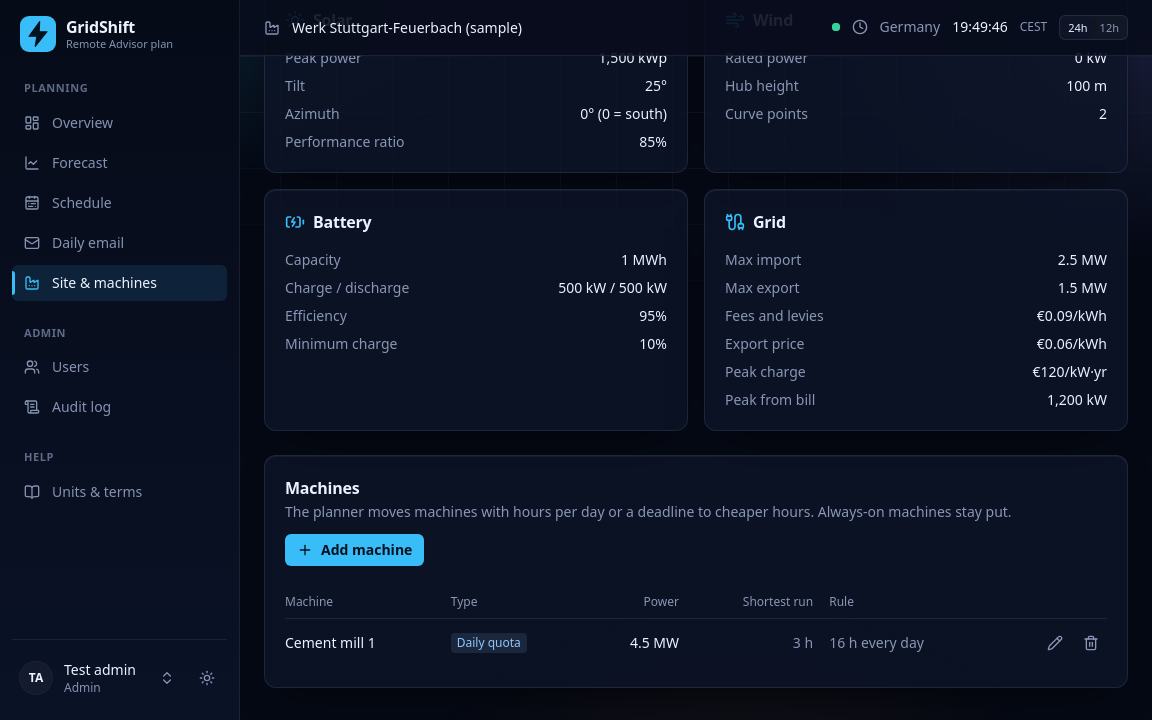
Test: App › refuses a shortest run longer than the daily hours before saving
The width and height of the screenshot is (1152, 720).
(page scrolled)
Click the button named "Edit Cement mill 1".
click(1055, 642)  # box [1039,626,1071,658]
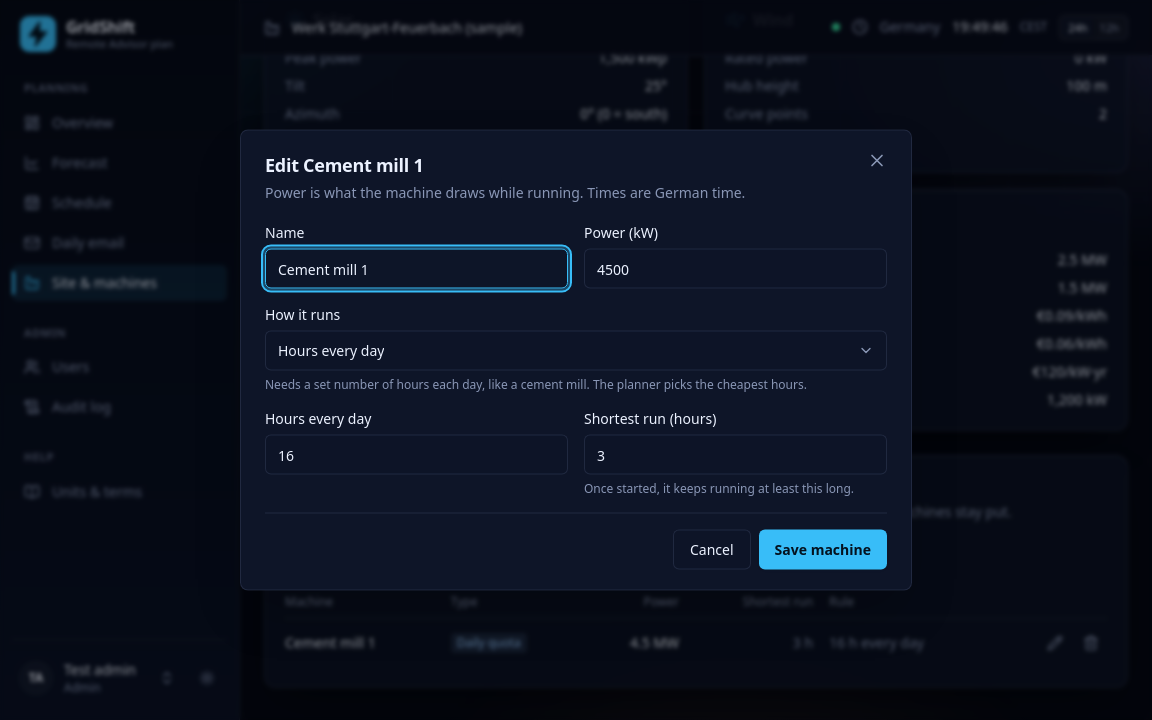
Replace the text in the number field labelled "Shortest run (hours)" with "20" at (736, 454), box [584,434,887,474]
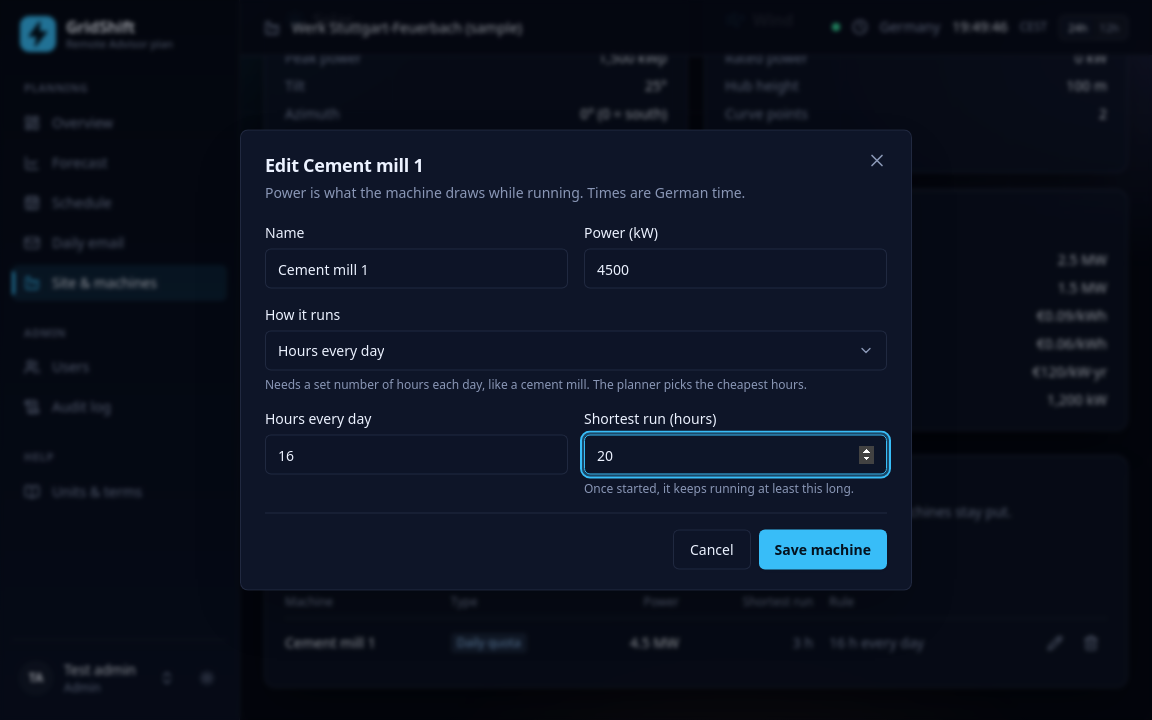
Click the button "Save machine".
click(823, 550)  # box [759,530,887,570]
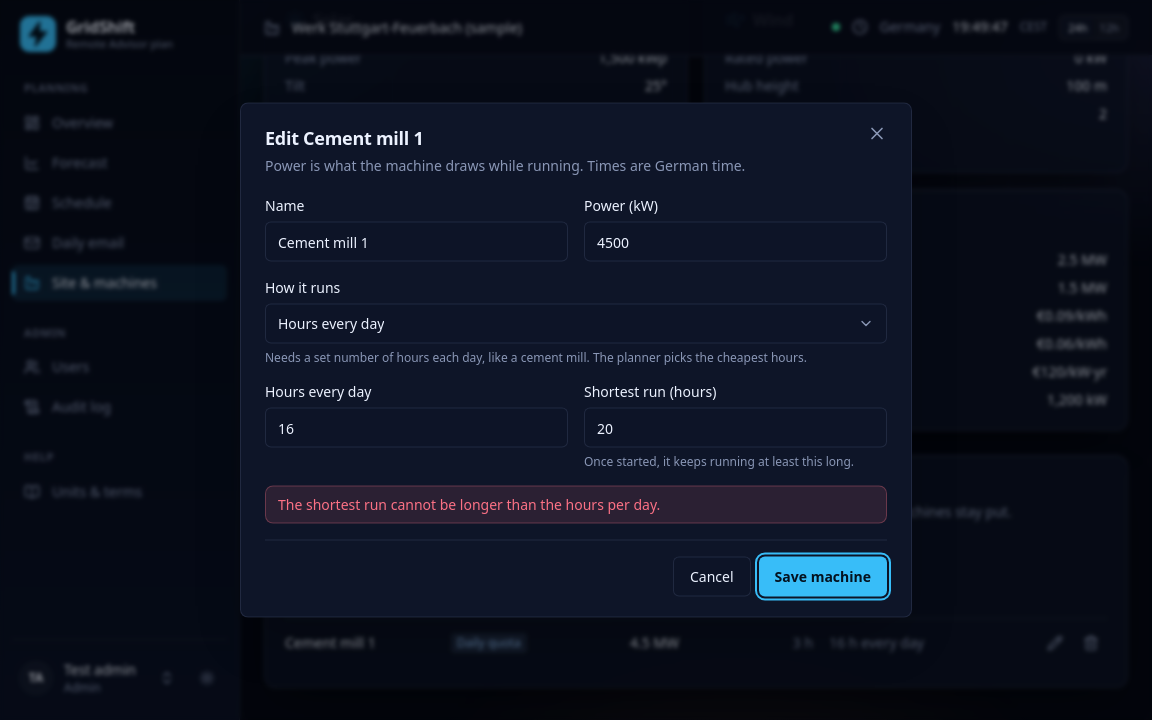
Now the message shows "cannot be longer than the hours per day", box [278,494,660,514]
